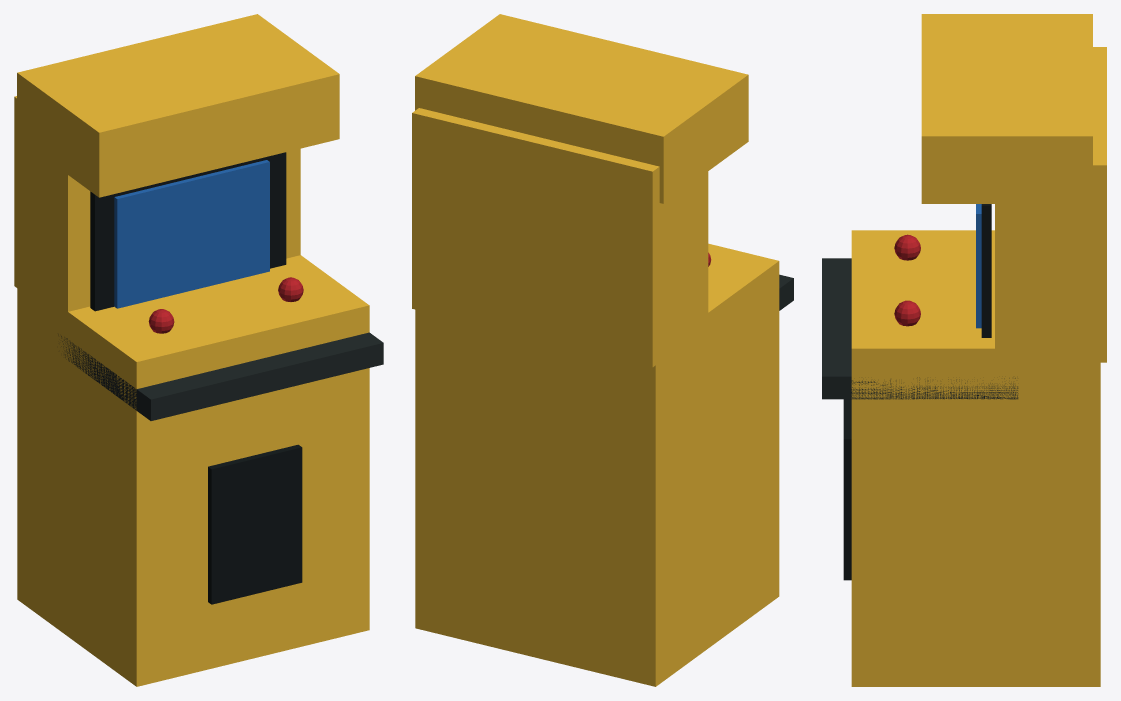
The model's file is good.glb.
3 renders of one model, left to right at view 1: azimuth 30°, elevation 25°; view 2: azimuth 150°, elevation 25°; view 3: azimuth 270°, elevation 25°, orthographic. The views are drawn at different scales.
Parts seen in each view (by area): view 1: Arcade cabinet, Coin door, Game screen, Control deck, Joystick ball; view 2: Arcade cabinet; view 3: Arcade cabinet, Control deck, Coin door, Joystick ball, Game screen.
Boxes of the visible parts, left/top/right/bottom form: Arcade cabinet: left=14, top=14, right=369, bottom=686; Coin door: left=90, top=152, right=302, bottom=604; Game screen: left=114, top=160, right=269, bottom=308; Control deck: left=58, top=332, right=383, bottom=420; Joystick ball: left=148, top=277, right=303, bottom=333; Arcade cabinet: left=412, top=14, right=779, bottom=686; Arcade cabinet: left=851, top=14, right=1106, bottom=686; Control deck: left=822, top=258, right=1018, bottom=399; Coin door: left=843, top=204, right=991, bottom=580; Joystick ball: left=894, top=234, right=920, bottom=326; Game screen: left=976, top=204, right=981, bottom=328.
Size of the model in its own units: 1.03 by 2.18 by 1.02.
